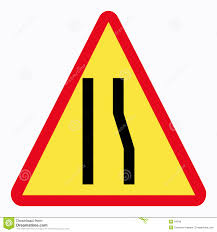Narrow_road: (10, 6, 209, 209)
